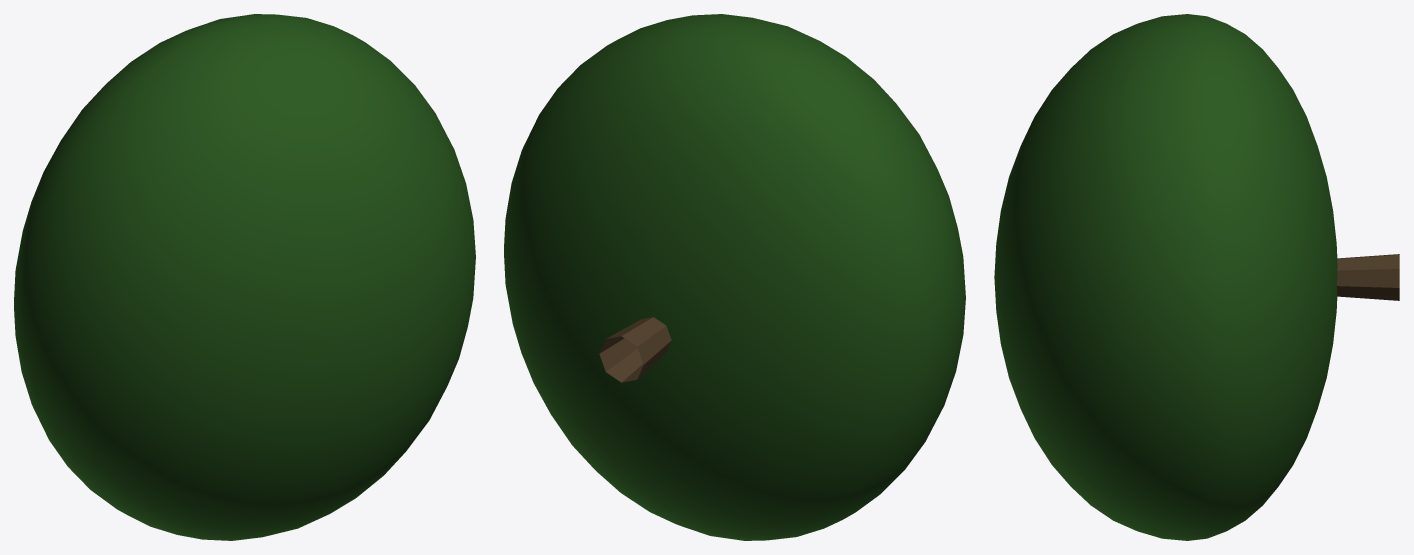
File: citrus_plain_a.obj
3 views of the same model, side by side, from view 1: azimuth 30°, elevation 25°; view 2: azimuth 150°, elevation 25°; view 3: azimuth 270°, elevation 25° (orthographic). The views are drawn at different scales.
Parts seen in each view (by area): view 1: canopy; view 2: canopy, trunk; view 3: canopy, trunk.
Part boxes in pixels (box(x1,y1,x2,y2)): canopy: box(14, 14, 475, 540); canopy: box(504, 14, 965, 540); trunk: box(599, 317, 671, 382); canopy: box(994, 14, 1337, 540); trunk: box(1337, 254, 1399, 300).
Bounding box in the file's own units: 2.98 × 3.34 × 2.52.
